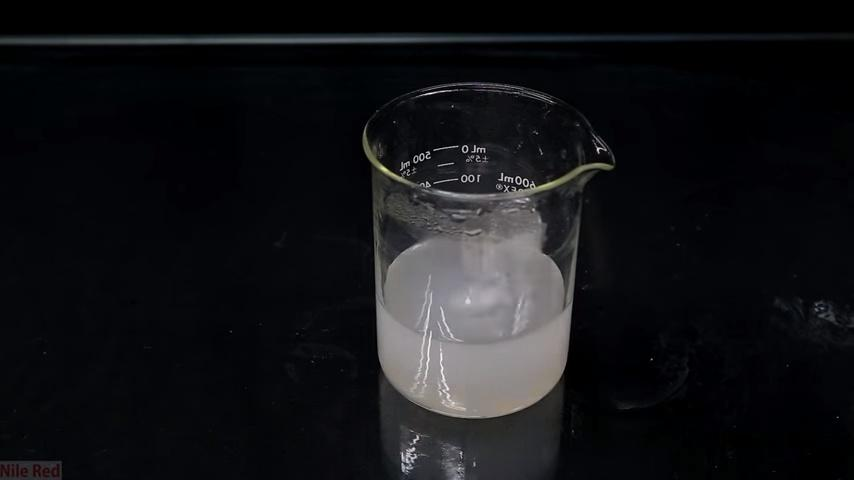Beaker: (351, 76, 619, 420)
